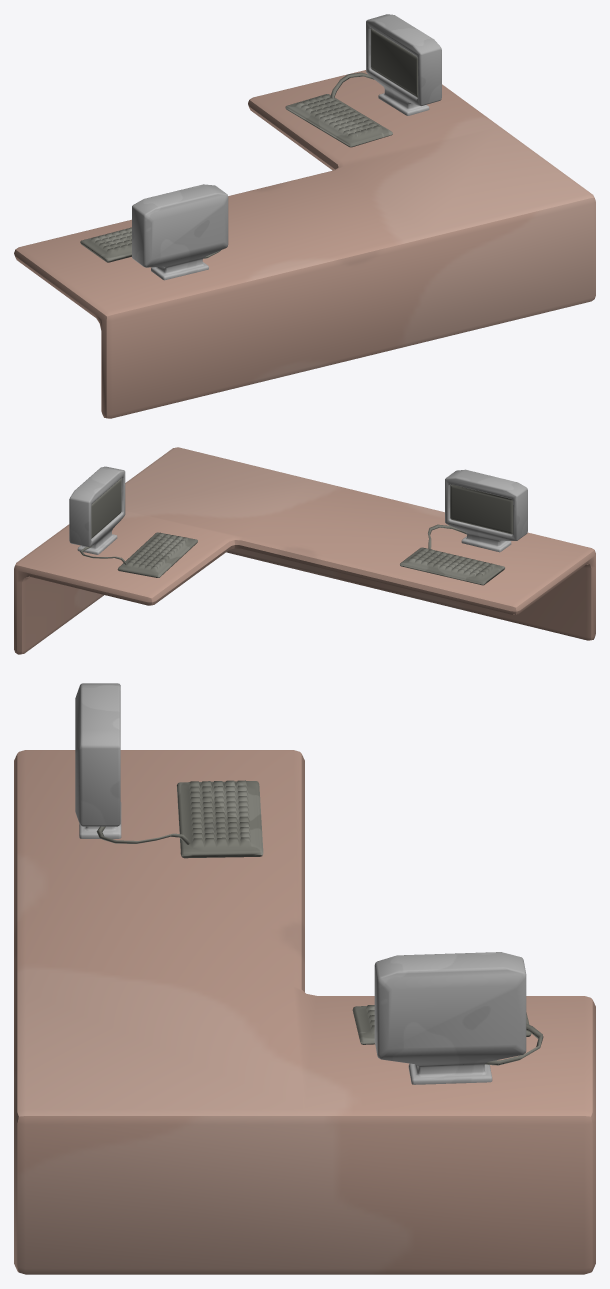
Rendered from Props_TableComp_02.fbx.
The picture shows the model from 3 angles, top to bottom: view 1: azimuth 30°, elevation 25°; view 2: azimuth 150°, elevation 25°; view 3: azimuth 270°, elevation 25°; orthographic projection. The views are drawn at different scales.
Visible parts, largest first — view 1: Props_TableComp_02; view 2: Props_TableComp_02; view 3: Props_TableComp_02.
Boxes of the visible parts, x1=… form: Props_TableComp_02: x1=14, y1=14, x2=595, y2=418; Props_TableComp_02: x1=14, y1=447, x2=595, y2=654; Props_TableComp_02: x1=14, y1=683, x2=595, y2=1274.
Size of the model in its own units: 300 by 106 by 200.
